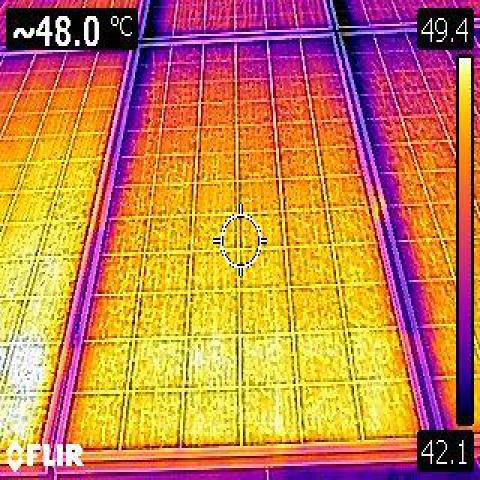fault: (0, 332, 43, 436)
